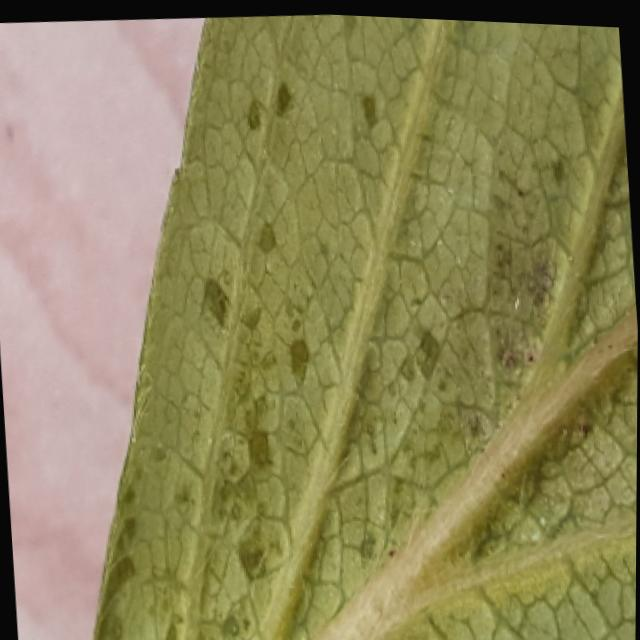Angular Leafspot: (92, 11, 638, 640)
